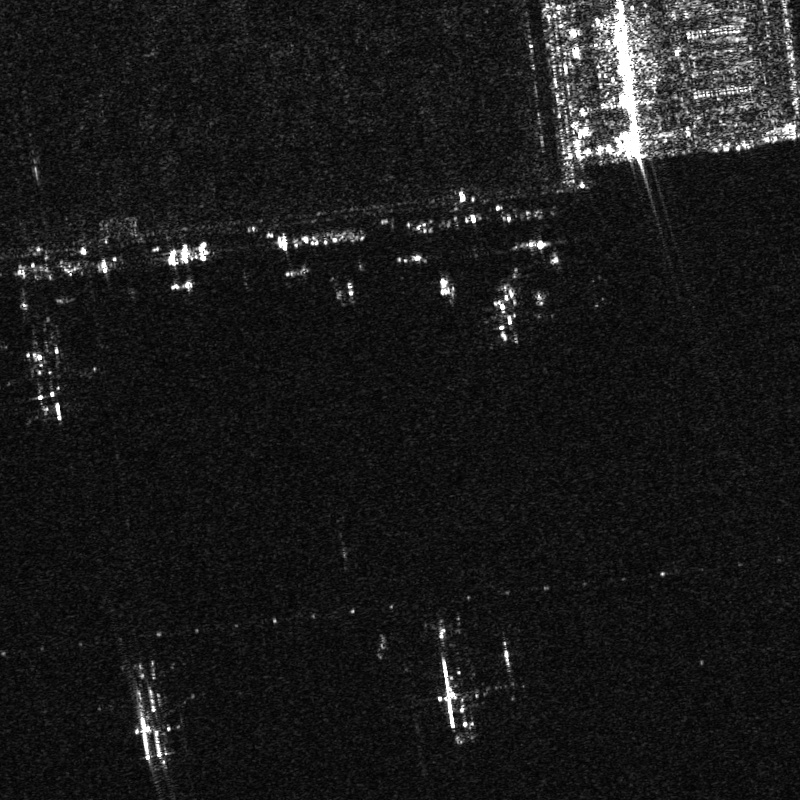A220: (477, 278, 538, 341)
